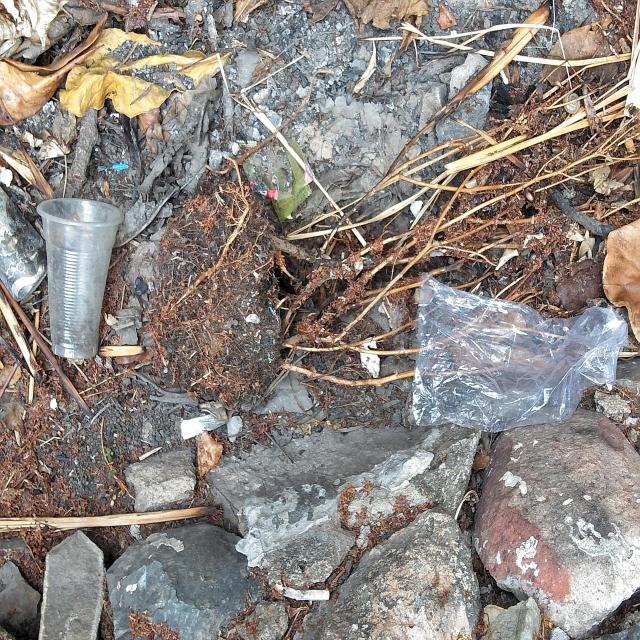litter: (407, 272, 628, 431), (37, 198, 124, 359), (0, 186, 47, 301)
